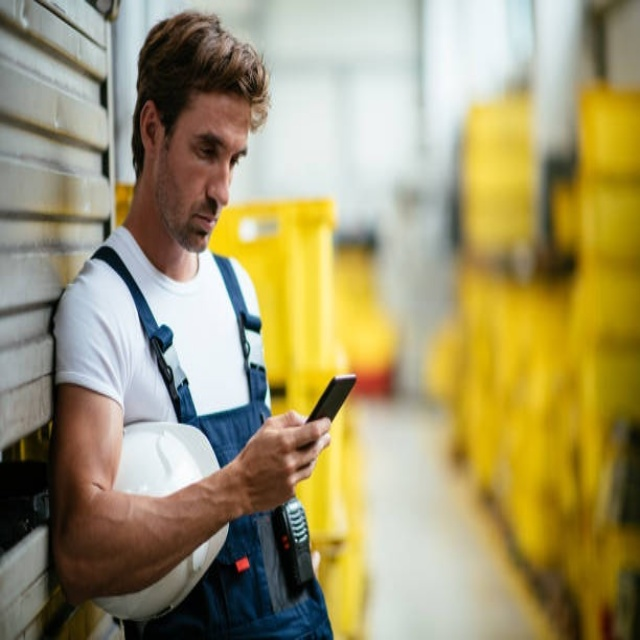Sin_gafas: (182, 115, 250, 180)
Sin_guantes: (239, 410, 335, 512)
Sin_mascara: (180, 204, 223, 251)
